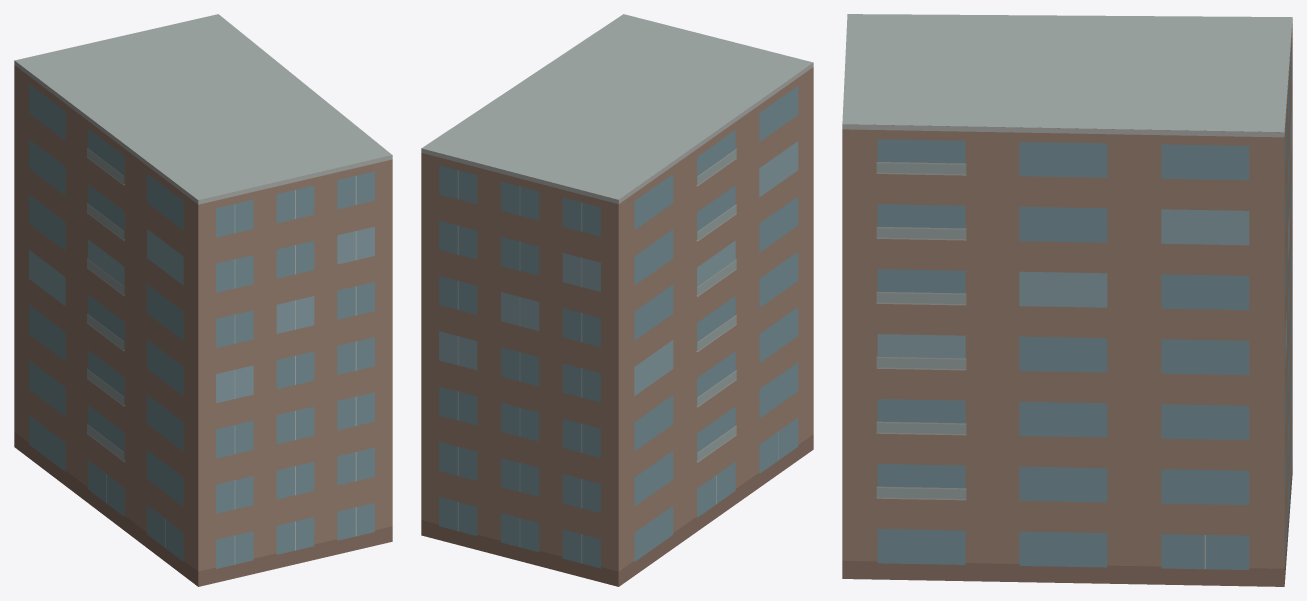
The model's file is survey-upis-32904407.glb.
3 views of the same model, side by side, from view 1: azimuth 30°, elevation 25°; view 2: azimuth 150°, elevation 25°; view 3: azimuth 270°, elevation 25° (orthographic). The views are drawn at different scales.
Visible parts, largest first — view 1: survey-upis-32904407.tmp; view 2: survey-upis-32904407.tmp; view 3: survey-upis-32904407.tmp.
Part boxes in pixels (bbox=[...]): survey-upis-32904407.tmp: bbox=[14, 14, 392, 586]; survey-upis-32904407.tmp: bbox=[421, 14, 813, 586]; survey-upis-32904407.tmp: bbox=[842, 14, 1292, 586].
Size of the model in its own units: 11.91 by 21.35 by 19.17.
